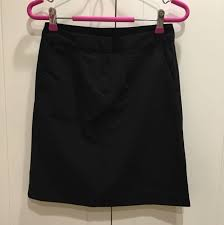F_tailored skirt: (19, 18, 200, 211)
